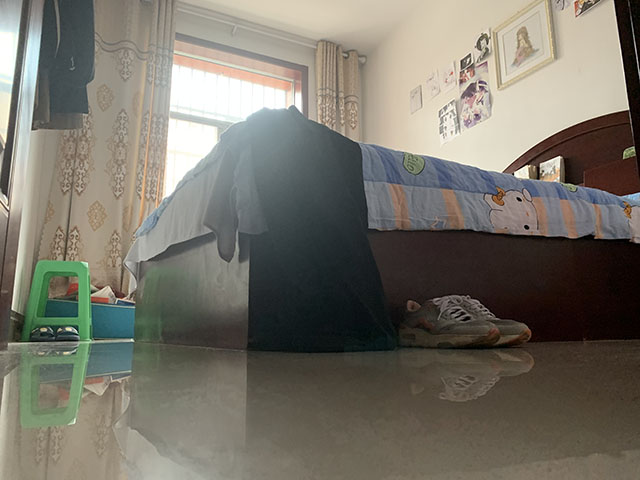bed: (122, 105, 640, 354)
curtain: (28, 1, 177, 290)
slippers: (29, 326, 80, 342)
stool: (18, 259, 94, 342)
